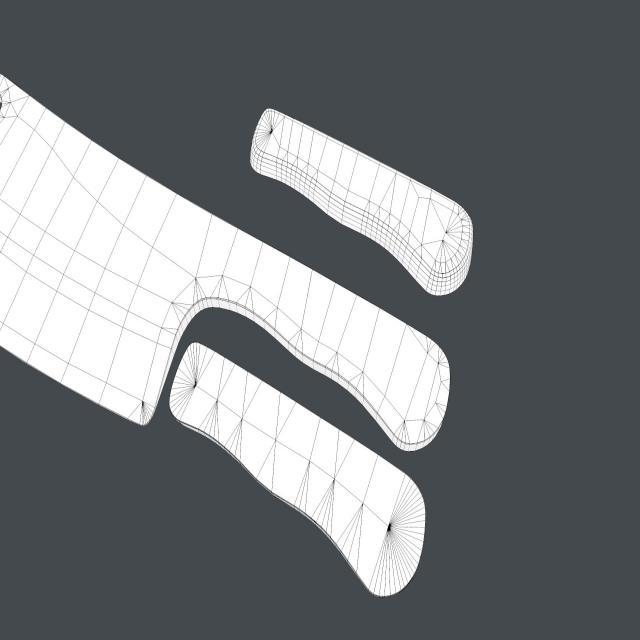cleaver: (0, 71, 439, 452)
